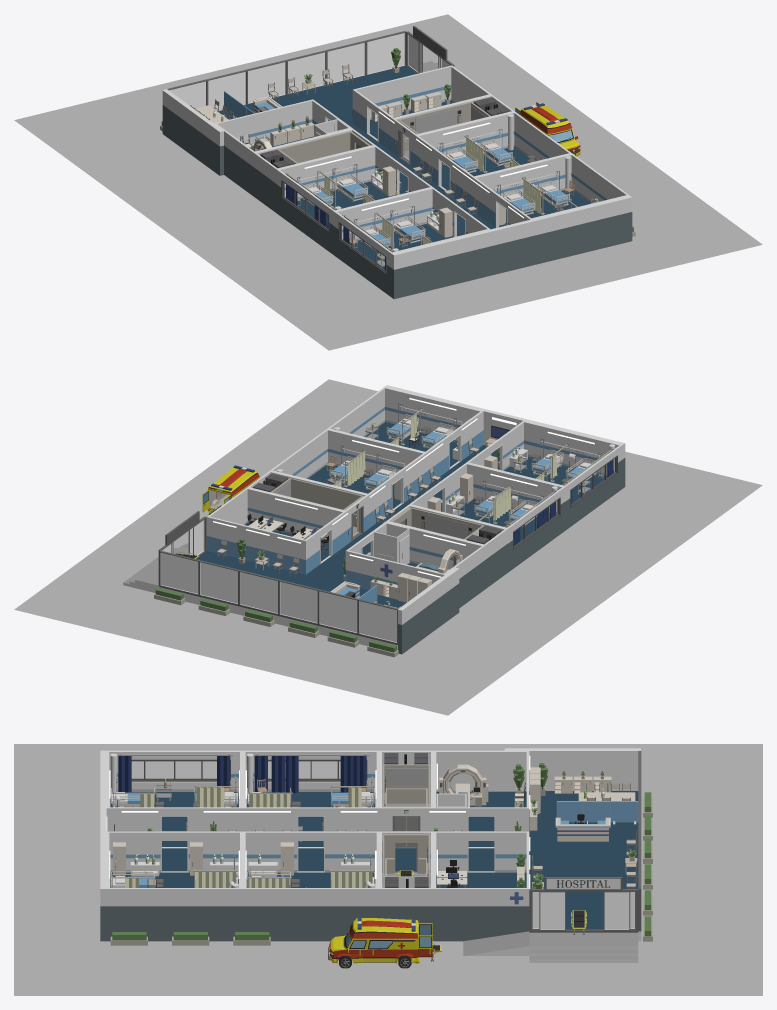
File: low_poly_hospital_-_example_scene_1.glb
The picture shows the model from 3 angles, top to bottom: view 1: azimuth 30°, elevation 25°; view 2: azimuth 150°, elevation 25°; view 3: azimuth 270°, elevation 25°; orthographic projection. The views are drawn at different scales.
Parts seen in each view (by area): view 1: Ground Plane_0, Hospital Outer Wall 01_140, Hospital Outer Wall 01 (1)_434, Hospital Outer Wall 01 (3)_420, Hospital Room Right Wall 01 Blue_84, Hospital Room Right Wall 01 Blue_135, Hospital Room Left Wall 02 Blue_263, Hospital Room Right Wall 02 Blue_326, Hospital Corridor 01 (7)_437, Hospital Room Left Wall 01 Blue_234, Hospital Room Left Wall 01 Blue_185, Hospital Outer Wall 01 (2)_433 (+29 smaller); view 2: Ground Plane_0, Hospital Room Left Wall 02 Blue_263, Hospital Outer Wall 01 (3)_420, Hospital Room Right Wall 02 Blue_264, Hospital Room Left Wall 01 Blue_128, Hospital Room Right Wall 01 Blue_189, Hospital Room Right Wall 01 Blue_238, Hospital Room Left Wall 01 Blue_74, Hospital Room Right Wall 02 Blue_326, Hospital Corridor 01 (6)_438, Hospital Room Front Wall 01 Blue_192, Hospital Room Front Wall 01 Blue_241 (+29 smaller); view 3: Ground Plane_0, Hospital Main Entrance 01_443, Hospital Room Back Wall 01 Blue_188, Hospital Room Back Wall 01 Blue_237, Hospital Outer Wall 02 3.5m_261, Hospital Corridor 01 (6)_438, Hospital Room Front Wall 01 Blue_241, Hospital Outer Wall 01 (3)_420, Ambulance Hospital 02_28, Hospital Corridor 01 (7)_437, Hospital Room Front Wall 01 Blue_192, Hospital Room Front Wall 01 Blue_87 (+39 smaller).
Boxes of the visible parts, x1=… form: Ground Plane_0: x1=14, y1=14, x2=762, y2=350; Hospital Outer Wall 01_140: x1=391, y1=229, x2=493, y2=299; Hospital Outer Wall 01 (1)_434: x1=531, y1=195, x2=632, y2=265; Hospital Outer Wall 01 (3)_420: x1=162, y1=89, x2=223, y2=175; Hospital Room Right Wall 01 Blue_84: x1=278, y1=145, x2=375, y2=198; Hospital Room Right Wall 01 Blue_135: x1=335, y1=187, x2=432, y2=240; Hospital Room Left Wall 02 Blue_263: x1=353, y1=65, x2=451, y2=119; Hospital Room Right Wall 02 Blue_326: x1=214, y1=99, x2=312, y2=147; Hospital Corridor 01 (7)_437: x1=218, y1=65, x2=417, y2=119; Hospital Room Left Wall 01 Blue_234: x1=416, y1=111, x2=514, y2=155; Hospital Room Left Wall 01 Blue_185: x1=474, y1=153, x2=571, y2=197; Hospital Outer Wall 01 (2)_433: x1=491, y1=219, x2=532, y2=274; Ground Plane_0: x1=14, y1=379, x2=762, y2=715; Hospital Room Left Wall 02 Blue_263: x1=206, y1=516, x2=305, y2=574; Hospital Outer Wall 01 (3)_420: x1=398, y1=567, x2=459, y2=654; Hospital Room Right Wall 02 Blue_264: x1=247, y1=487, x2=345, y2=540; Hospital Room Left Wall 01 Blue_128: x1=523, y1=421, x2=621, y2=475; Hospital Room Right Wall 01 Blue_189: x1=384, y1=387, x2=483, y2=438; Hospital Room Right Wall 01 Blue_238: x1=327, y1=429, x2=425, y2=474; Hospital Room Left Wall 01 Blue_74: x1=466, y1=463, x2=563, y2=511; Hospital Room Right Wall 02 Blue_326: x1=345, y1=550, x2=444, y2=589; Hospital Corridor 01 (6)_438: x1=196, y1=550, x2=406, y2=607; Hospital Room Front Wall 01 Blue_192: x1=425, y1=411, x2=483, y2=484; Hospital Room Front Wall 01 Blue_241: x1=368, y1=453, x2=426, y2=528; Ground Plane_0: x1=14, y1=744, x2=762, y2=995; Hospital Main Entrance 01_443: x1=463, y1=877, x2=638, y2=962; Hospital Room Back Wall 01 Blue_188: x1=106, y1=888, x2=242, y2=928; Hospital Room Back Wall 01 Blue_237: x1=243, y1=888, x2=379, y2=928; Hospital Outer Wall 02 3.5m_261: x1=433, y1=888, x2=529, y2=928; Hospital Corridor 01 (6)_438: x1=529, y1=791, x2=583, y2=929; Hospital Room Front Wall 01 Blue_241: x1=243, y1=831, x2=378, y2=872; Hospital Outer Wall 01 (3)_420: x1=504, y1=748, x2=640, y2=790; Ambulance Hospital 02_28: x1=328, y1=916, x2=419, y2=963; Hospital Corridor 01 (7)_437: x1=583, y1=791, x2=638, y2=929; Hospital Room Front Wall 01 Blue_192: x1=107, y1=831, x2=242, y2=872; Hospital Room Front Wall 01 Blue_87: x1=243, y1=807, x2=379, y2=848.
Bounding box in the file's own units: 21.86 × 2.64 × 27.47.
Materials: 6 (4 with a texture image).
